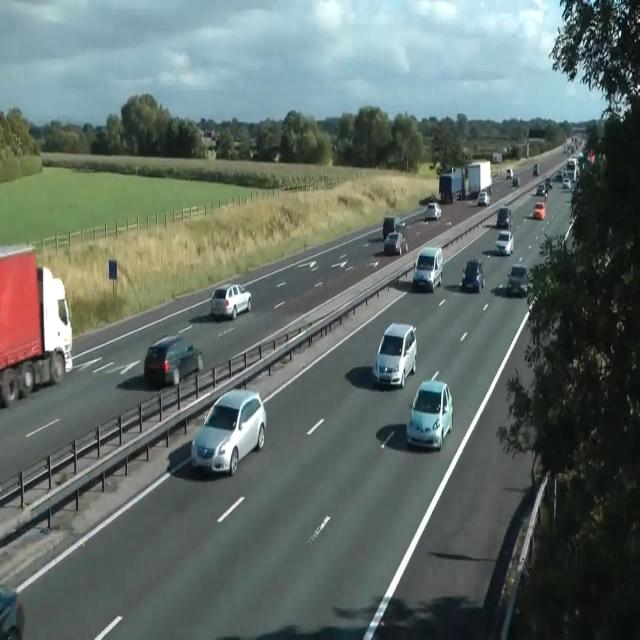bus: (143, 334, 203, 388), (0, 584, 24, 639), (506, 263, 529, 297), (462, 258, 484, 292), (384, 231, 408, 255), (494, 229, 514, 255), (496, 206, 510, 228), (424, 202, 441, 220), (532, 201, 546, 219), (477, 190, 489, 206), (536, 183, 548, 197), (562, 177, 570, 190), (505, 168, 513, 180), (512, 175, 519, 187), (545, 178, 553, 188), (533, 163, 539, 175), (455, 189, 461, 200)
jeep: (190, 386, 266, 476), (406, 378, 452, 450), (373, 322, 417, 388), (210, 283, 252, 320), (413, 244, 443, 292), (382, 215, 400, 238)
minibus: (0, 244, 73, 408), (438, 159, 492, 204), (466, 160, 492, 198), (439, 166, 463, 204), (492, 152, 502, 163)
